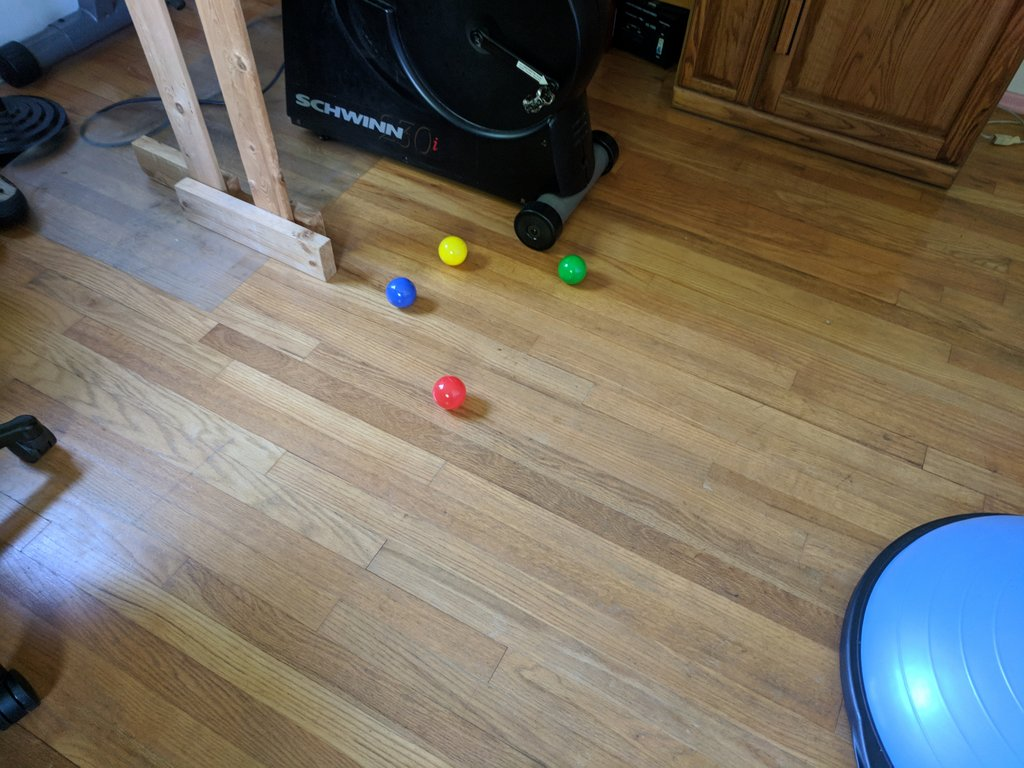ball: (384, 277, 417, 308)
